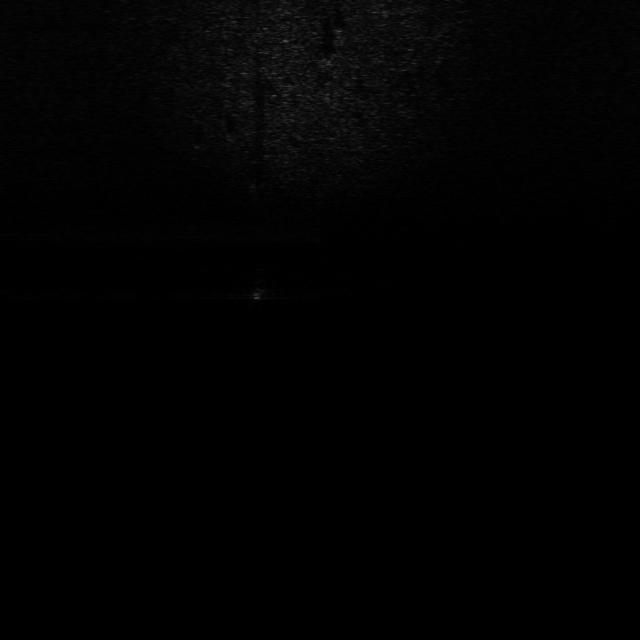human body: (240, 271, 280, 313)
